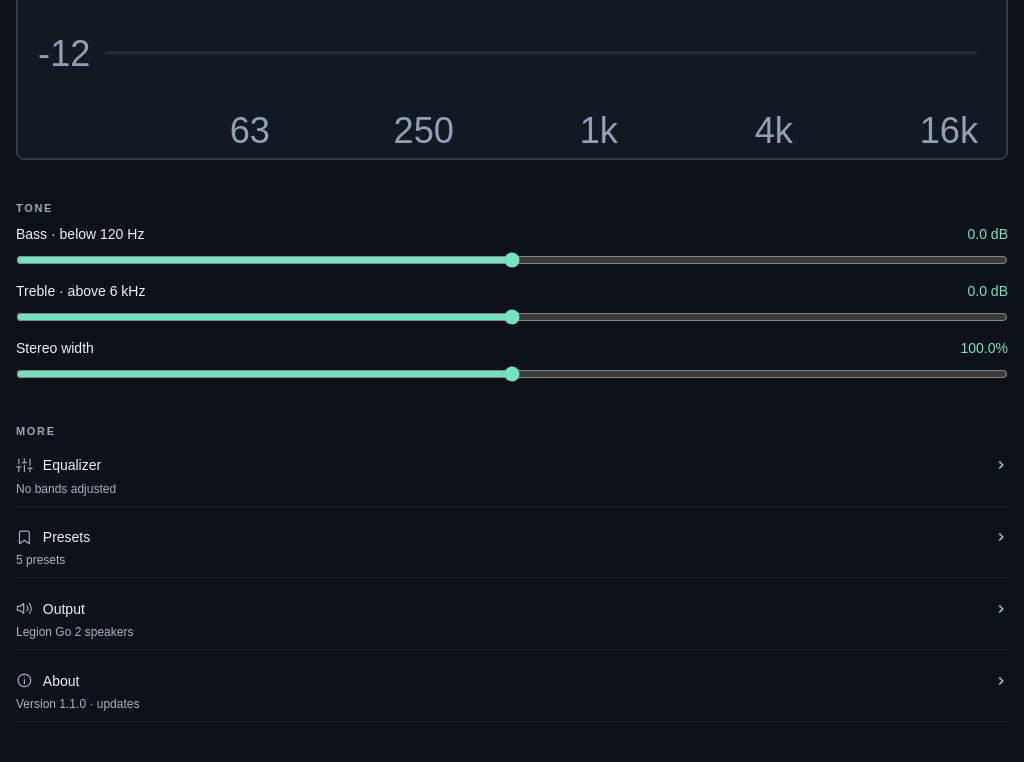
Test case: keeps everyday controls on the main screen and the rest one row away
(page scrolled)
Expected: the slider labelled "Stereo width" is shown, [16,368,1008,380]
Expected: the button "Presets 5 presets" is shown, [16,521,1008,578]
Click the button "Equalizer No bands adjusted": [72, 465] box [16,449,1008,507]
(page scrolled)
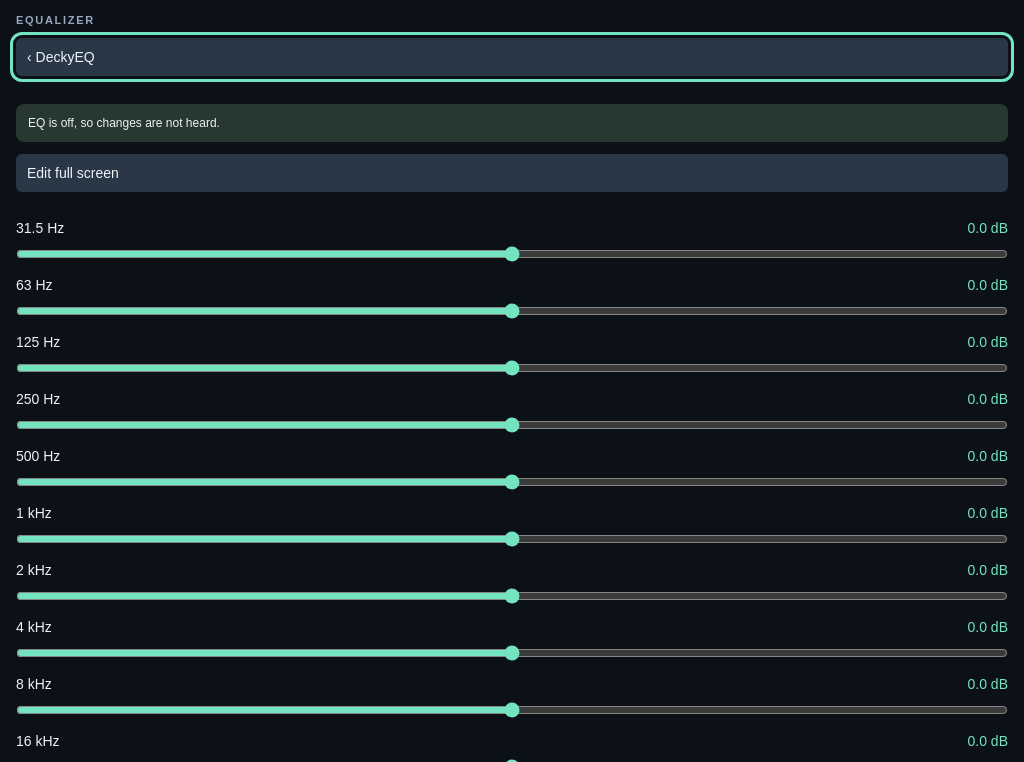
Result: the number of sliders is 11
Click the button "‹ DeckyEQ": [65, 57] box [16,38,1008,76]
(page scrolled)
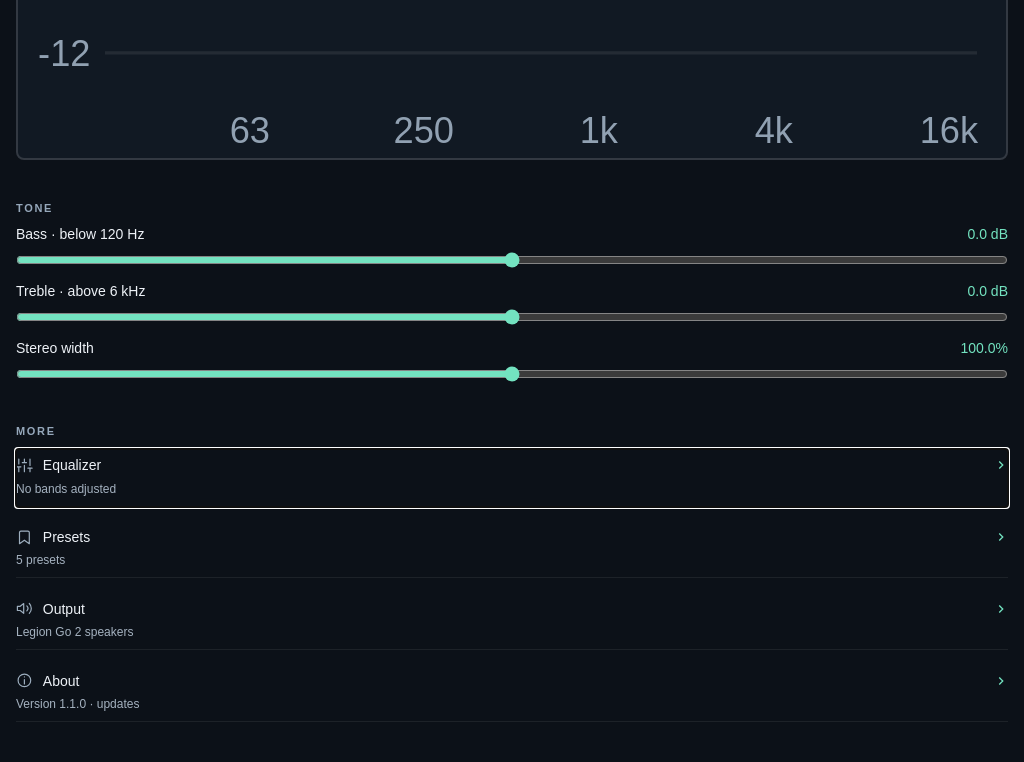
Result: the number of sliders is 4
